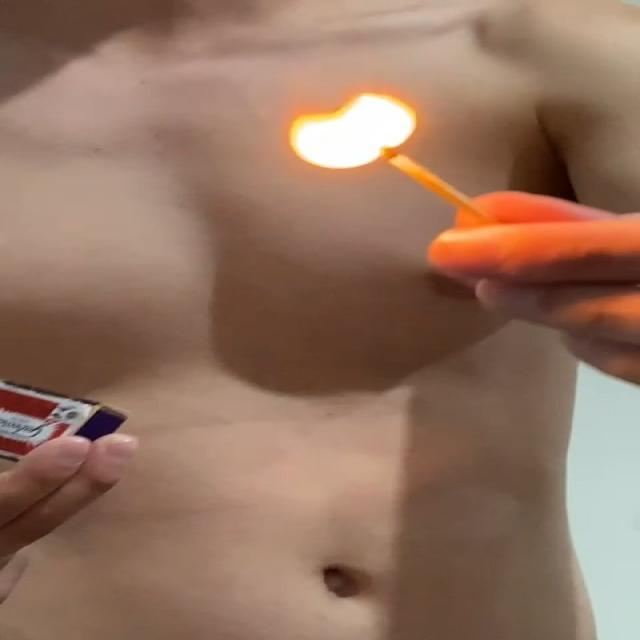fire: (276, 74, 417, 170)
